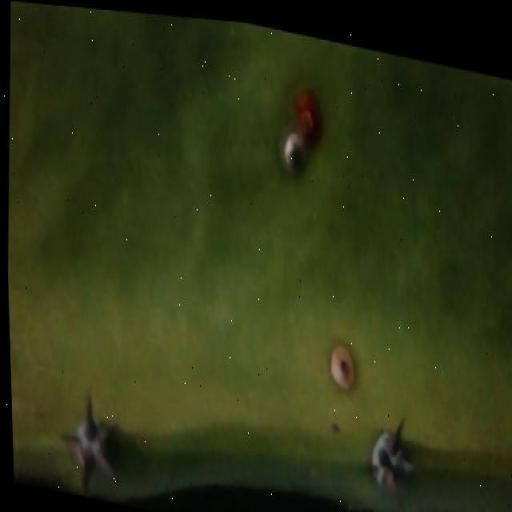stemcanker: (156, 252, 210, 362), (206, 99, 268, 181)
